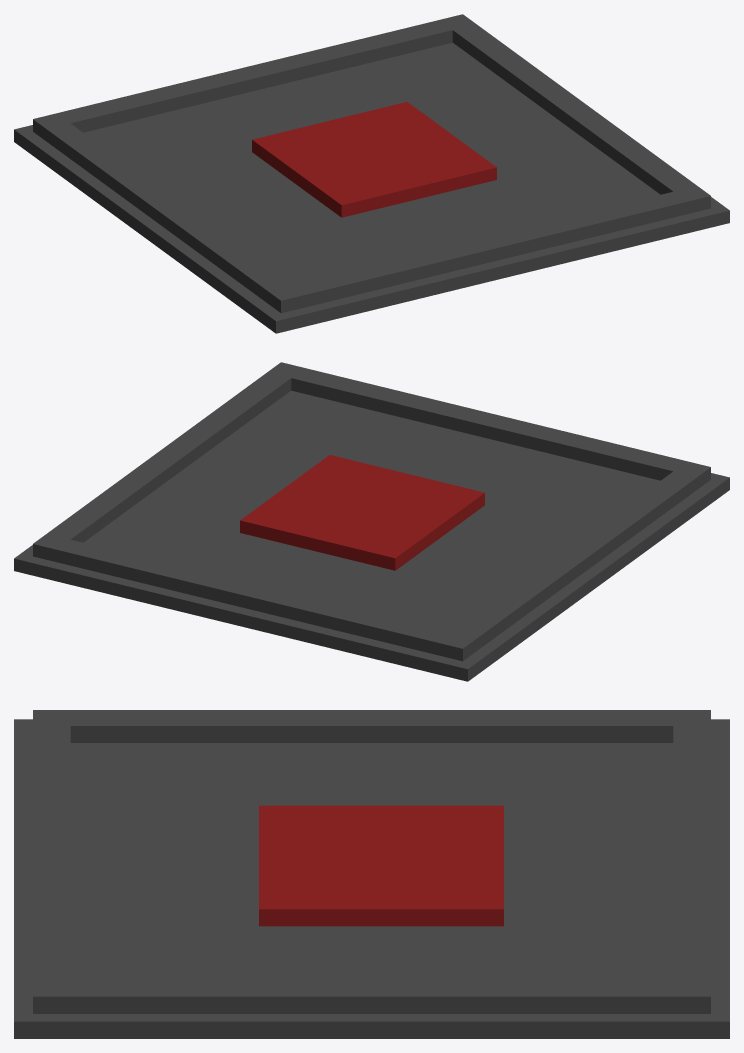
Rendered from Goal.obj.
3 renders of one model, top to bottom at view 1: azimuth 30°, elevation 25°; view 2: azimuth 150°, elevation 25°; view 3: azimuth 270°, elevation 25°, orthographic. The views are drawn at different scales.
Size of the model in its own units: 3.8 by 0.2 by 3.8.
1 material, 1 textured.
